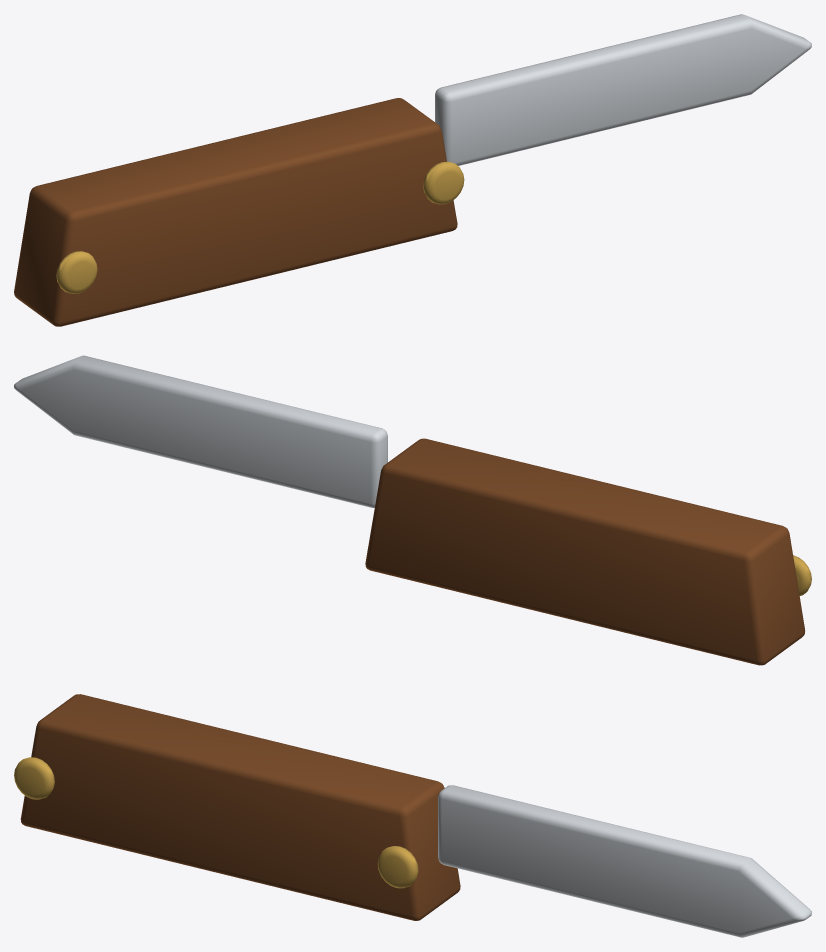
Rendered from canivete.glb.
3 renders of one model, top to bottom at view 1: azimuth 30°, elevation 25°; view 2: azimuth 150°, elevation 25°; view 3: azimuth 330°, elevation 25°, orthographic.
Parts seen in each view (by area): view 1: canivete; view 2: canivete; view 3: canivete.
Boxes of the visible parts, bbox=[...] form: canivete: bbox=[14, 14, 811, 326]; canivete: bbox=[14, 355, 811, 665]; canivete: bbox=[14, 694, 811, 937].
Size of the model in its own units: 1.19 by 0.18 by 0.1347.
